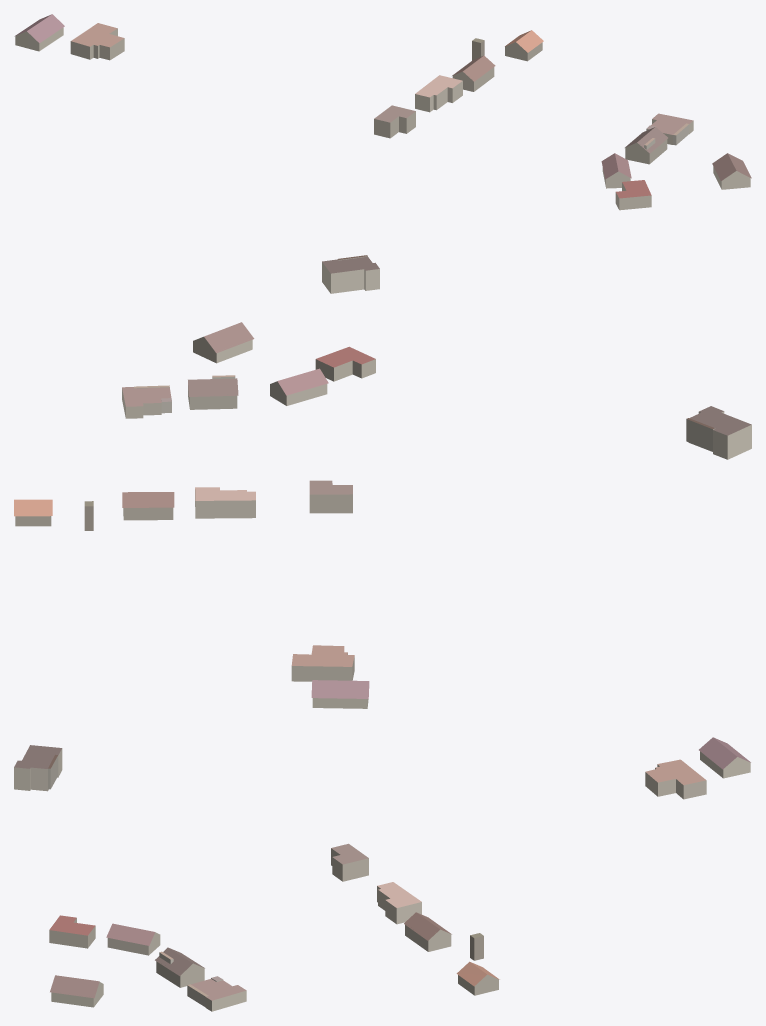
The picture shows the model from 3 angles, top to bottom: view 1: azimuth 30°, elevation 25°; view 2: azimuth 150°, elevation 25°; view 3: azimuth 270°, elevation 25°; orthographic projection. The views are drawn at different scales.
Parts seen in each view (by area): view 1: tuile; view 2: tuile; view 3: tuile.
Part boxes in pixels (left/top/right/bottom): tuile: left=14, top=14, right=751, bottom=293; tuile: left=14, top=322, right=751, bottom=708; tuile: left=14, top=737, right=750, bottom=1011.
Bounding box in the file's own units: 180 × 14.83 × 237.
